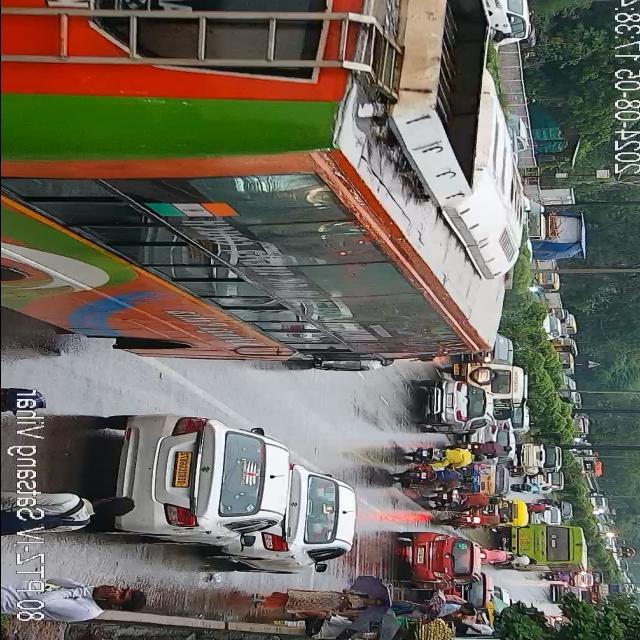2-wheelers: (394, 467, 479, 492), (402, 441, 474, 465), (426, 493, 501, 512), (445, 512, 501, 530), (481, 548, 520, 564), (470, 442, 510, 457), (512, 481, 544, 494), (511, 554, 539, 566), (512, 468, 542, 478), (540, 574, 576, 582), (530, 503, 556, 512)
auto: (504, 496, 530, 526)
bus: (0, 0, 525, 362), (506, 520, 584, 572)
car: (110, 410, 288, 544), (235, 470, 352, 570), (405, 530, 474, 588), (422, 376, 486, 436), (472, 0, 534, 50), (484, 364, 524, 421), (306, 361, 401, 375), (446, 578, 496, 602), (474, 460, 508, 494), (523, 438, 563, 466), (468, 424, 514, 438), (461, 352, 517, 362), (550, 583, 578, 603), (538, 474, 564, 494), (510, 410, 530, 436), (550, 500, 574, 519), (570, 572, 594, 588), (534, 511, 558, 524), (546, 508, 551, 510)
pedestrian: (0, 485, 142, 525), (61, 578, 148, 616), (252, 592, 386, 610), (0, 372, 47, 413), (302, 610, 362, 634), (460, 621, 508, 636), (438, 602, 476, 618), (394, 602, 430, 616)
truck: (521, 198, 590, 266)
